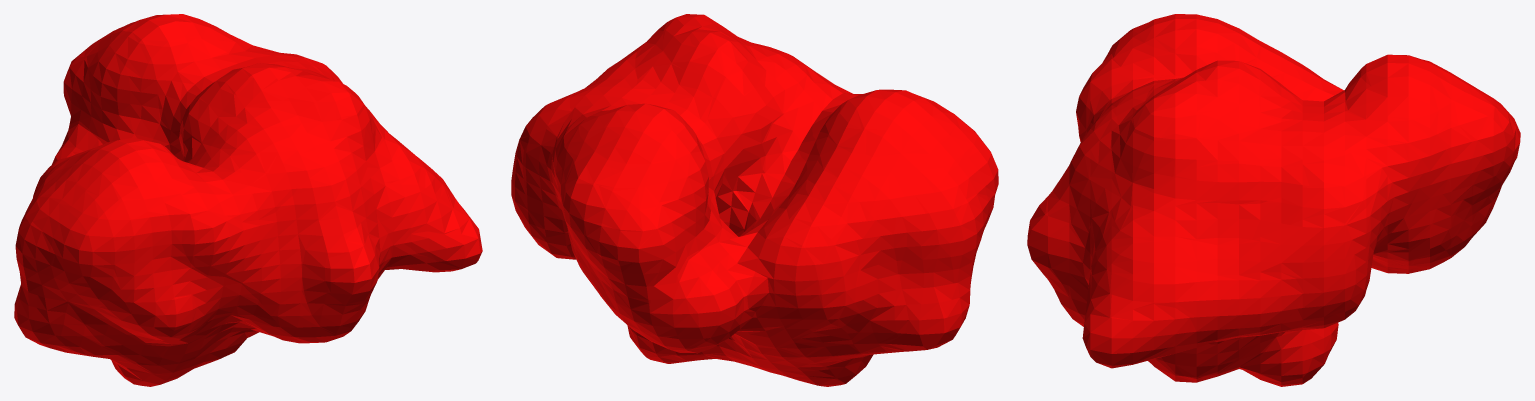
File: cmk_coarse.dae
The picture shows the model from 3 angles, left to right: view 1: azimuth 30°, elevation 25°; view 2: azimuth 150°, elevation 25°; view 3: azimuth 270°, elevation 25°; orthographic projection. The views are drawn at different scales.
Visible parts, largest first — view 1: cmk; view 2: cmk; view 3: cmk.
Part boxes in pixels (x1,y1,x2,y2): cmk: [14, 14, 482, 386]; cmk: [511, 14, 998, 386]; cmk: [1027, 14, 1520, 386].
Bounding box in the file's own units: 58 × 39.36 × 54.4.
